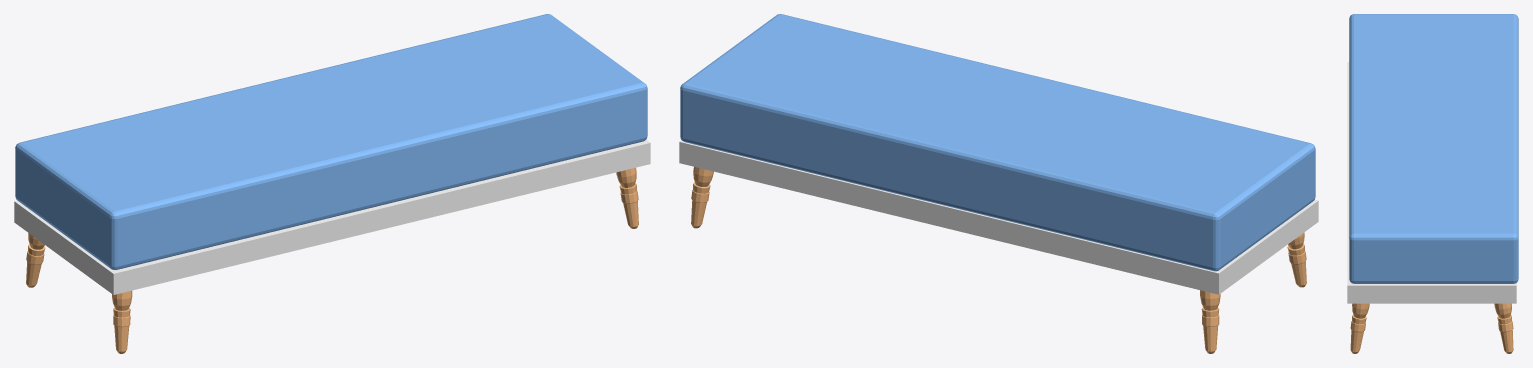
The model's file is Chair_20.fbx.
3 views of the same model, side by side, from view 1: azimuth 30°, elevation 25°; view 2: azimuth 150°, elevation 25°; view 3: azimuth 270°, elevation 25° (orthographic). The views are drawn at different scales.
Parts seen in each view (by area): view 1: Chair_20; view 2: Chair_20; view 3: Chair_20.
Boxes of the visible parts, bbox=[...] form: Chair_20: bbox=[14, 14, 650, 353]; Chair_20: bbox=[679, 14, 1318, 353]; Chair_20: bbox=[1347, 14, 1518, 353].
Size of the model in its own units: 1.73 by 0.4398 by 0.5592.
